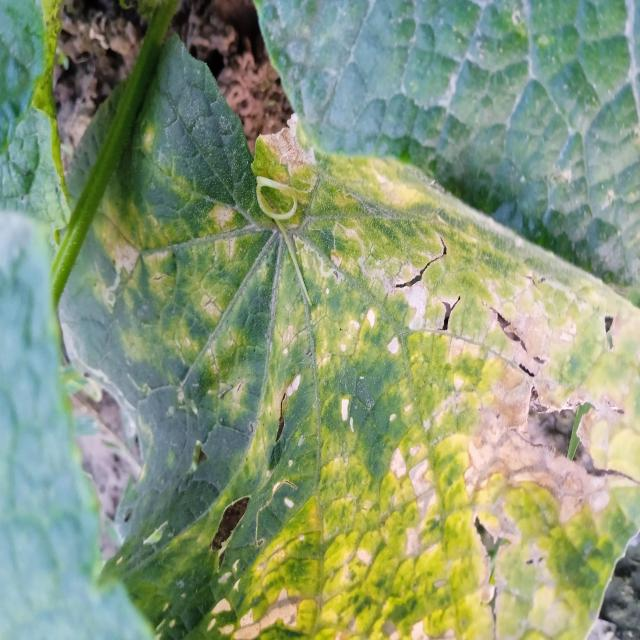cucumber_anthracnose: (74, 196, 636, 624)
